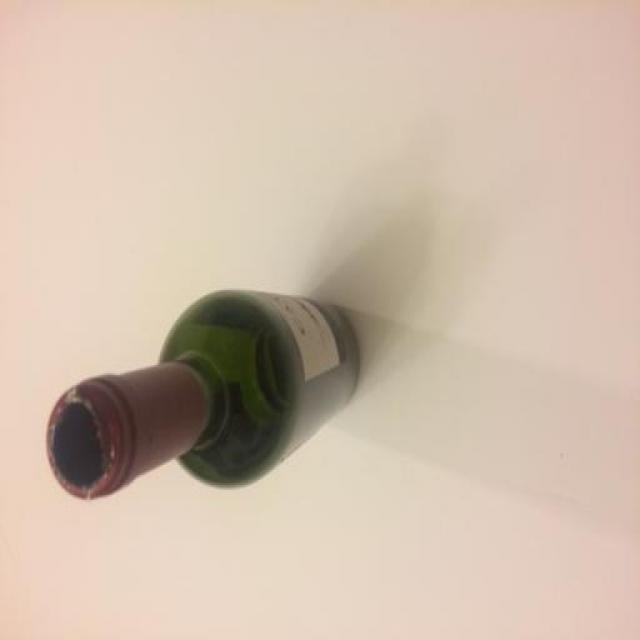Waste: (46, 292, 360, 499)
